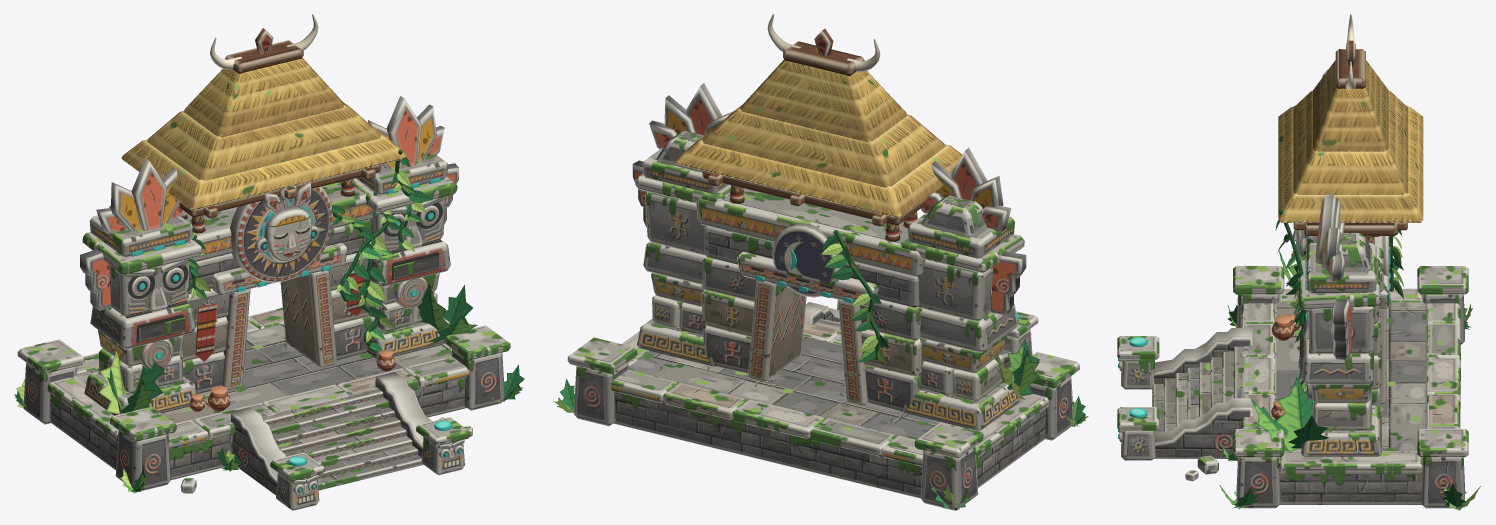
File: gate_portal.glb
3 views of the same model, side by side, from view 1: azimuth 30°, elevation 25°; view 2: azimuth 150°, elevation 25°; view 3: azimuth 270°, elevation 25° (orthographic). The views are drawn at different scales.
Parts seen in each view (by area): view 1: 0182_add, 0011_add, 0183_add, 0181_add, 0000_add, 0141_add, 0123_add, 0041_add, 0140_add, 0092_add, 0018_add, 0099_add (+60 smaller); view 2: 0000_add, 0011_add, 0182_add, 0183_add, 0181_add, 0140_add, 0123_add, 0099_add, 0139_add, 0086_add, 0092_add, 0065_add (+44 smaller); view 3: 0011_add, 0182_add, 0181_add, 0183_add, 0000_add, 0030_add, 0013_add, 0058_add, 0065_add, 0052_add, 0041_add, 0014_add (+43 smaller).
Boxes of the visible parts, <box> form: 0182_add: <box>147,102,381,180</box>; 0011_add: <box>58,323,451,423</box>; 0183_add: <box>183,58,344,137</box>; 0181_add: <box>121,124,406,210</box>; 0000_add: <box>50,378,466,480</box>; 0141_add: <box>230,186,333,282</box>; 0123_add: <box>280,270,336,367</box>; 0041_add: <box>231,407,286,495</box>; 0140_add: <box>185,181,372,261</box>; 0092_add: <box>90,302,195,349</box>; 0018_add: <box>115,430,171,491</box>; 0099_add: <box>109,262,189,316</box>; 0000_add: <box>613,392,1045,498</box>; 0011_add: <box>629,335,1037,439</box>; 0182_add: <box>702,105,945,187</box>; 0183_add: <box>740,59,907,142</box>; 0181_add: <box>675,128,962,218</box>; 0140_add: <box>696,188,925,277</box>; 0123_add: <box>748,280,806,381</box>; 0099_add: <box>917,260,992,321</box>; 0139_add: <box>704,226,919,307</box>; 0086_add: <box>902,380,1020,430</box>; 0092_add: <box>920,303,1017,352</box>; 0065_add: <box>645,191,706,255</box>; 0011_add: <box>1274,294,1427,463</box>; 0182_add: <box>1293,90,1408,194</box>; 0181_add: <box>1278,105,1423,222</box>; 0183_add: <box>1313,60,1388,151</box>; 0000_add: <box>1279,472,1422,504</box>; 0030_add: <box>1154,398,1252,458</box>; 0013_add: <box>1279,451,1422,473</box>; 0058_add: <box>1302,337,1373,384</box>; 0065_add: <box>1308,306,1374,353</box>; 0052_add: <box>1301,405,1381,456</box>; 0041_add: <box>1154,328,1252,383</box>; 0014_add: <box>1236,457,1280,508</box>.
Size of the model in its own units: 19.9 by 18.07 by 15.6.
